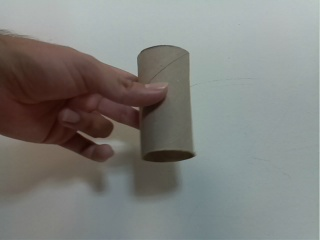rollo papel: (135, 44, 199, 165)
